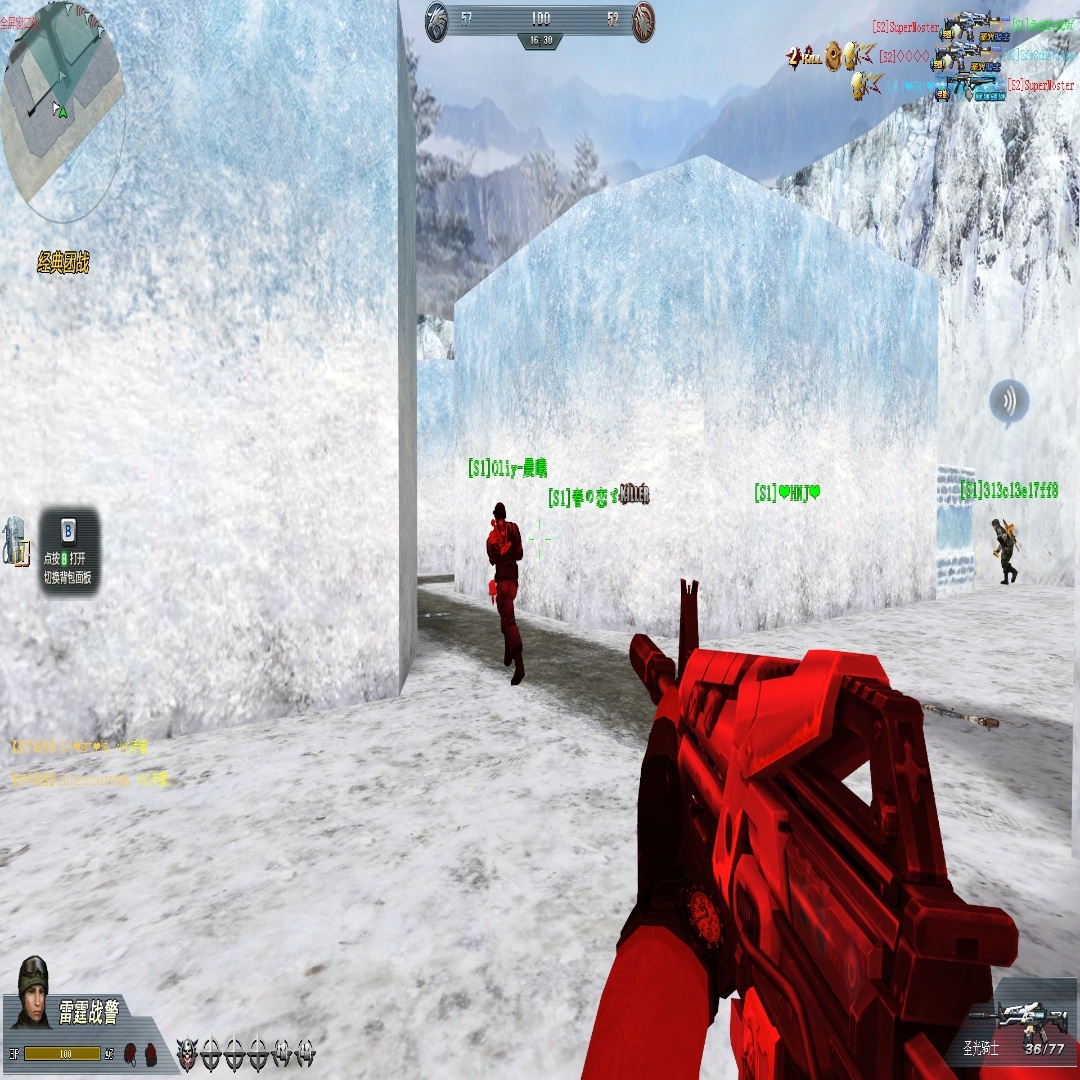ct: (992, 515, 1019, 585)
head: (992, 519, 1000, 532)
